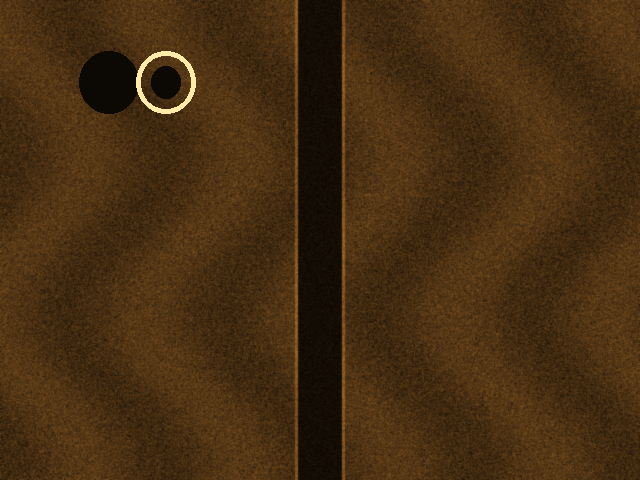Rubber Debris: (136, 51, 195, 113)
